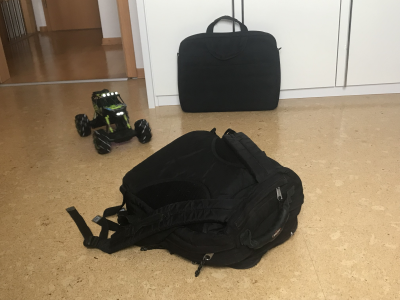remote control car: (73, 85, 153, 155)
